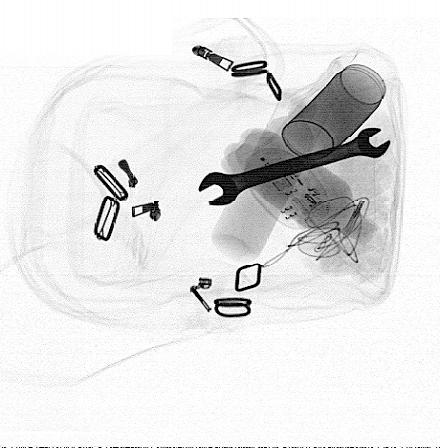Wrench: (198, 126, 392, 206)
